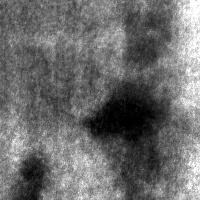patches: (0, 0, 118, 120), (110, 0, 200, 128), (89, 78, 166, 166), (107, 91, 181, 165), (125, 14, 164, 63), (15, 154, 46, 200)
